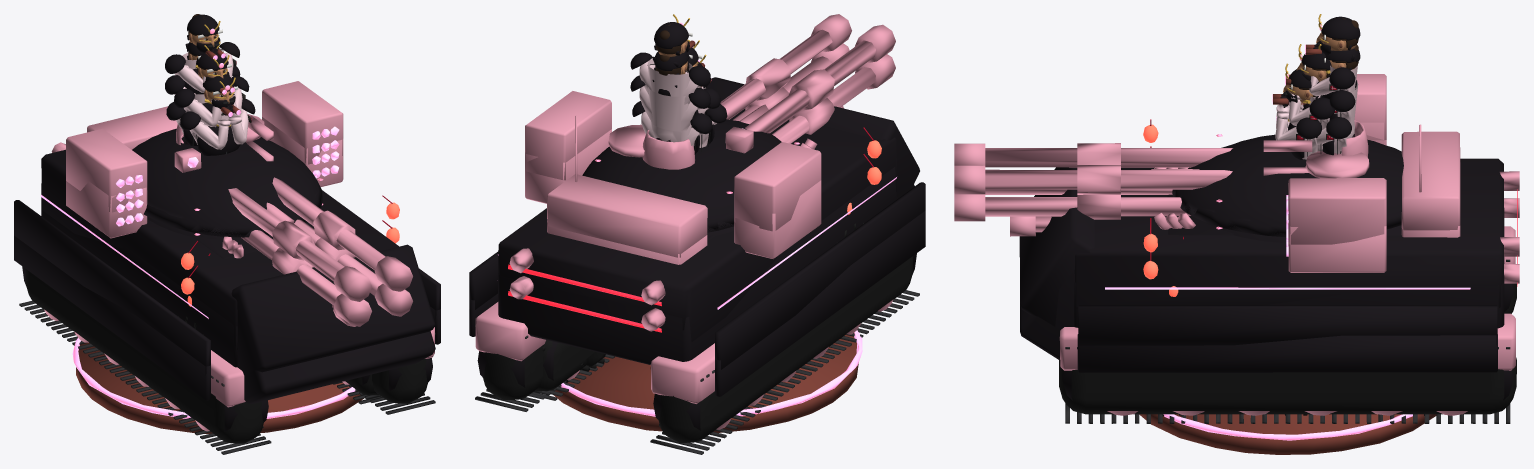
Rendered from bjoern_sakura.glb.
3 views of the same model, side by side, from view 1: azimuth 30°, elevation 25°; view 2: azimuth 150°, elevation 25°; view 3: azimuth 270°, elevation 25° (orthographic). The views are drawn at different scales.
Parts seen in each view (by area): view 1: op4.001_net, ned4_net, fod_net, ned1.001_net, op4_net, ned2.001_net, ned2_net, op4.002_net, ned1.002_net, ned3_net, ned2.002_net, ned3.001_net; view 2: op4.001_net, ned4_net, fod_net, op4_net, ned4.002_net, ned3_net, op4.002_net, ned3.001_net, ned4.001_net, ned2_net, ned1.001_net; view 3: op4.001_net, ned4_net, fod_net, op4_net, ned2_net, ned1.001_net, op4.002_net, ned2.001_net, ned3.001_net, ned3_net, ned4.002_net, ned2.002_net (+2 smaller).
Boxes of the visible parts, box(x1,y1,x2,y2) form: op4.001_net: box(14, 81, 440, 407); ned4_net: box(14, 117, 440, 454); fod_net: box(72, 338, 363, 433); ned1.001_net: box(180, 98, 255, 155); op4_net: box(165, 42, 239, 144); ned2.001_net: box(174, 76, 249, 148); ned2_net: box(178, 202, 342, 382); op4.002_net: box(185, 14, 222, 52); ned1.002_net: box(202, 74, 238, 108); ned3_net: box(187, 296, 381, 428); ned2.002_net: box(196, 52, 231, 81); ned3.001_net: box(166, 102, 197, 145); op4.001_net: box(469, 14, 925, 403); ned4_net: box(469, 43, 925, 454); fod_net: box(553, 330, 862, 432); op4_net: box(630, 52, 710, 169); ned4.002_net: box(630, 75, 710, 142); ned3_net: box(531, 106, 852, 426); op4.002_net: box(652, 14, 692, 67); ned3.001_net: box(632, 101, 712, 154); ned4.001_net: box(652, 40, 692, 87); ned2_net: box(542, 104, 863, 382); ned1.001_net: box(699, 87, 727, 147); op4.001_net: box(954, 74, 1519, 370); ned4_net: box(954, 122, 1519, 423); fod_net: box(1139, 414, 1436, 454); op4_net: box(1309, 42, 1368, 157); ned2_net: box(1151, 124, 1424, 416); ned1.001_net: box(1275, 91, 1321, 159); op4.002_net: box(1316, 14, 1360, 60); ned2.001_net: box(1288, 93, 1334, 153); ned3.001_net: box(1316, 116, 1351, 155); ned3_net: box(1010, 216, 1178, 296); ned4.002_net: box(1309, 79, 1358, 153); ned2.002_net: box(1296, 44, 1331, 81).
Bounding box in the file's own units: 1.94 × 2.33 × 3.24.
